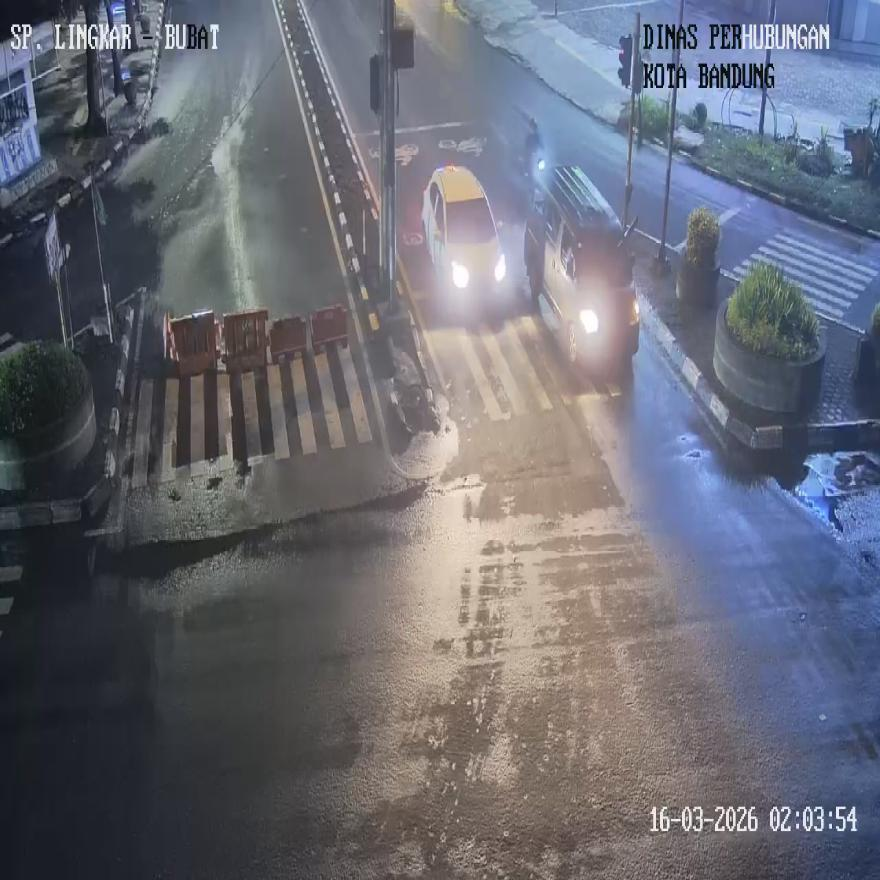Mobil: (523, 165, 639, 364), (421, 165, 505, 296)
Motor: (518, 148, 547, 188)
